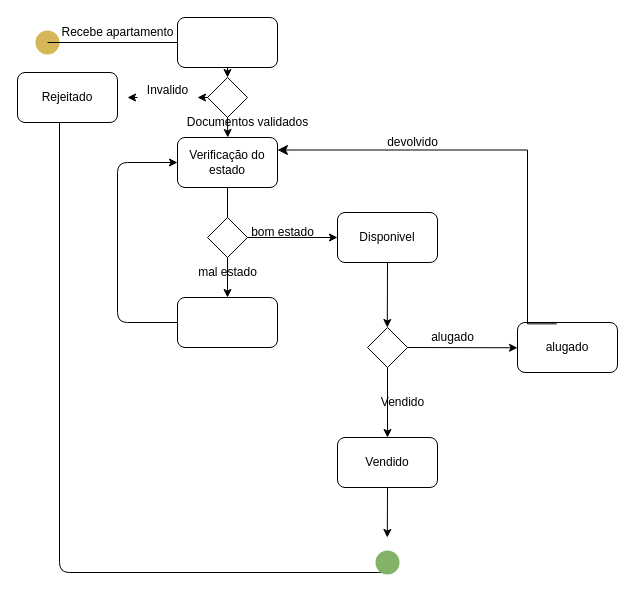
The diagram is 635 pixels wide and 595 high, and some of its shapes have lost their labels. Each missing label, with the box of its shape:
Em manutenção: (176, 296, 278, 348)
Em validação: (176, 16, 278, 68)
